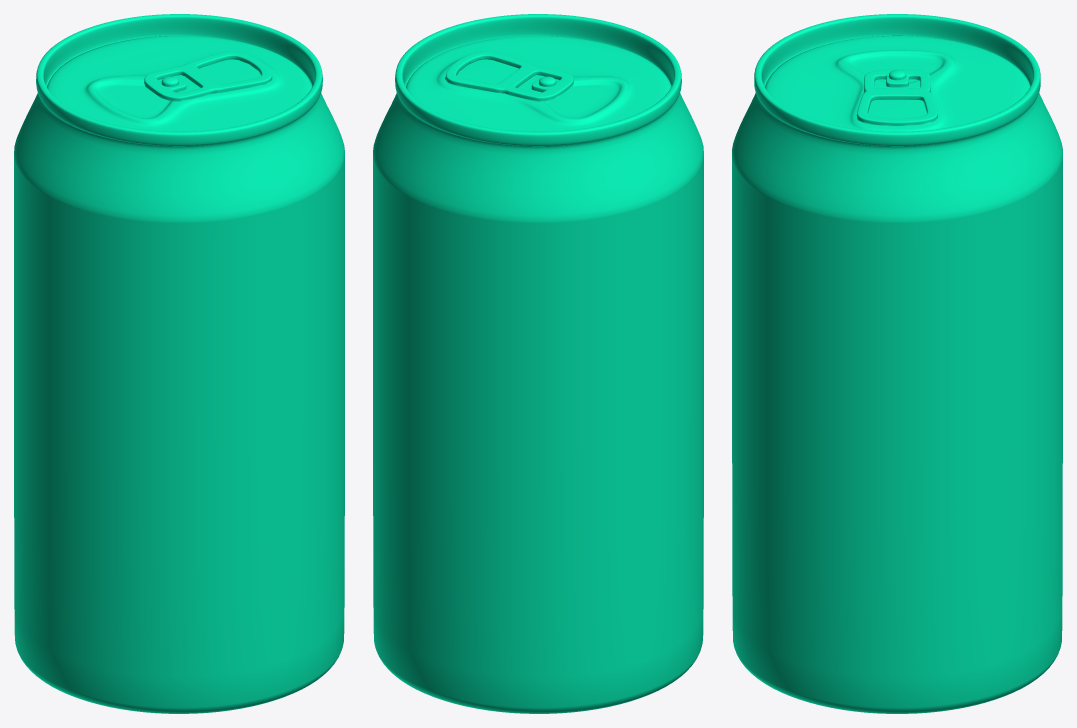
File: SodaCan.FBX
3 views of the same model, side by side, from view 1: azimuth 30°, elevation 25°; view 2: azimuth 150°, elevation 25°; view 3: azimuth 270°, elevation 25° (orthographic).
Parts seen in each view (by area): view 1: 14025_Soda_Can_sg; view 2: 14025_Soda_Can_sg; view 3: 14025_Soda_Can_sg.
Part boxes in pixels (x1=…): 14025_Soda_Can_sg: x1=14, y1=14, x2=344, y2=713; 14025_Soda_Can_sg: x1=373, y1=14, x2=703, y2=713; 14025_Soda_Can_sg: x1=732, y1=14, x2=1062, y2=713.
Bounding box in the file's own units: 12.07 × 23.19 × 12.07.
